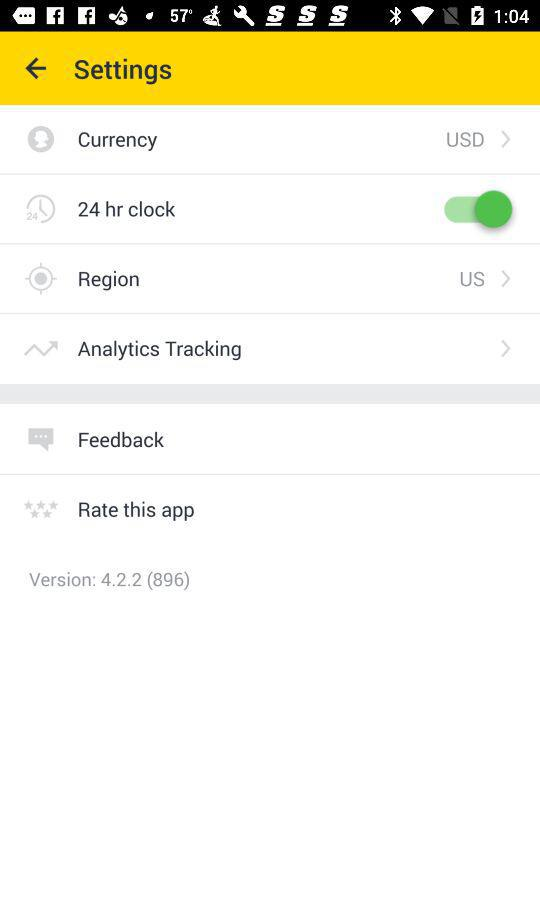Icon: (25, 263, 59, 297), (26, 195, 57, 225), (29, 126, 56, 153), (28, 428, 55, 453), (25, 341, 60, 358), (26, 58, 47, 81), (501, 340, 512, 358), (501, 131, 511, 150), (501, 270, 511, 288)
Image: (25, 500, 60, 519)
Switch: (444, 190, 513, 228)
Text: (78, 340, 242, 361), (29, 571, 190, 591), (75, 59, 172, 86), (79, 501, 195, 522), (79, 201, 176, 219), (79, 132, 158, 152), (79, 432, 165, 449), (79, 271, 140, 291), (446, 132, 484, 149), (460, 271, 485, 288)
Toolbar: (1, 33, 540, 106)
UpperTaskBar: (1, 1, 540, 33)
